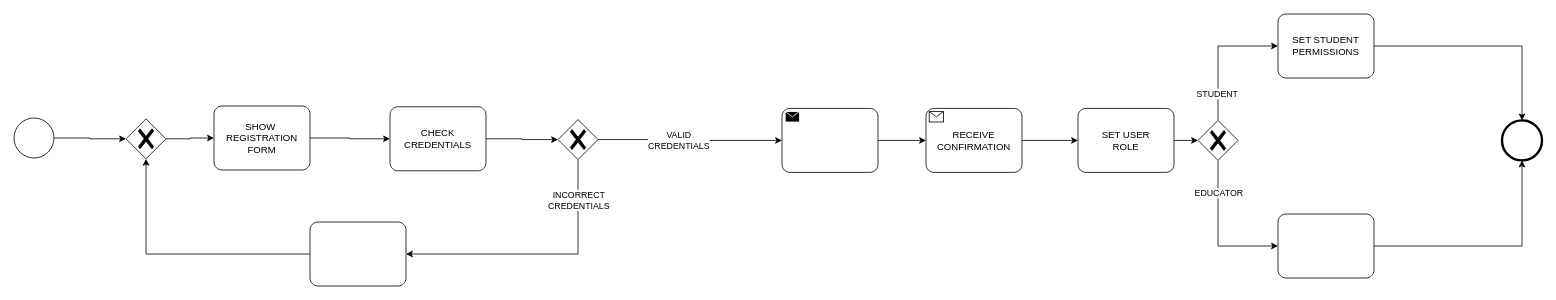
Image size: 1556x300. Some labels were removed from this diagram. The shapes that lost their labels are listed below. From the top down, each one's centre as x and y in pixels, then its label:
At point 829,140: "SEND CONFIRMATION MAIL".
At point 357,253: "SHOW ERROR MESSAGE".
At point 1325,245: "SET EDUCATOR PERMISSIONS".
